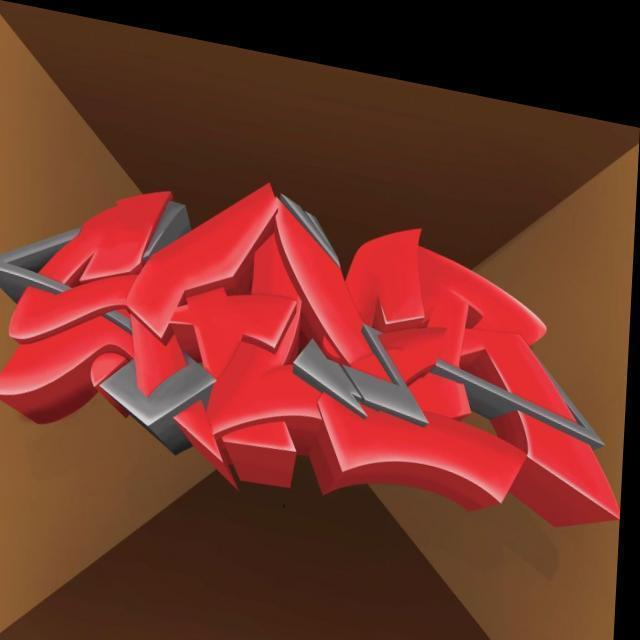nonspitting: (0, 178, 620, 528)
